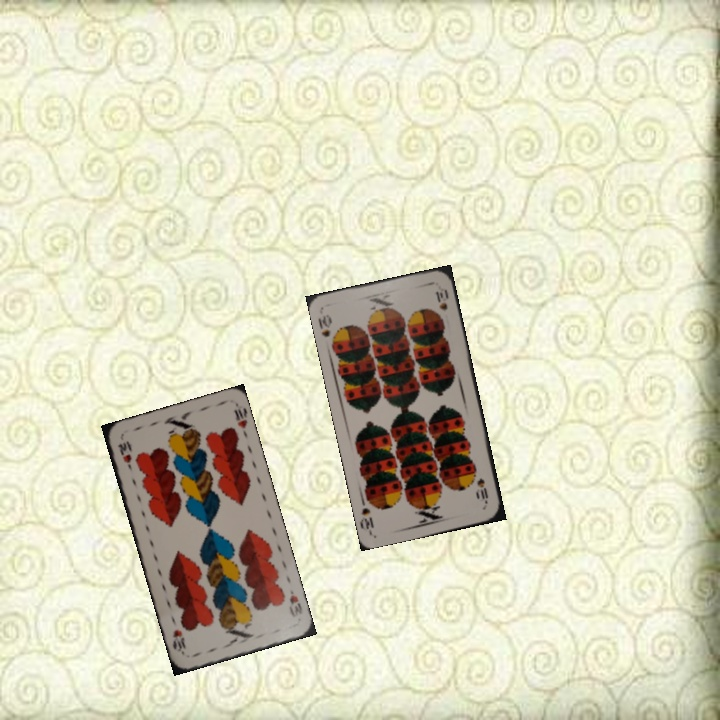H10: (113, 437, 135, 472), (285, 585, 305, 620)
S10: (314, 310, 335, 340), (473, 474, 491, 507)
